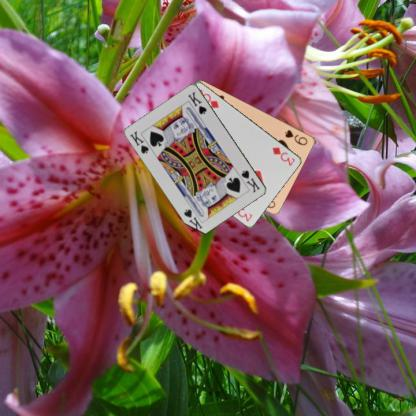3d: (270, 144, 296, 167)
9s: (282, 127, 309, 147)
Ks: (128, 128, 150, 155), (239, 168, 261, 194)
